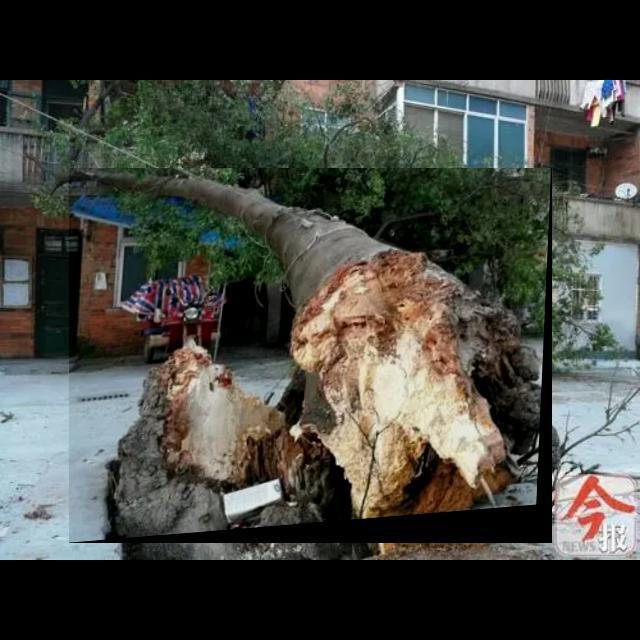fallen_tree: (69, 168, 553, 544)
